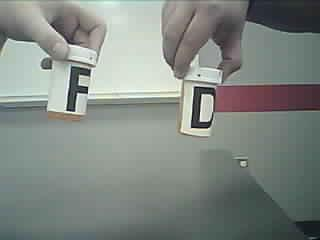Bottle D: (173, 57, 224, 143)
Bottle F: (41, 37, 102, 126)
